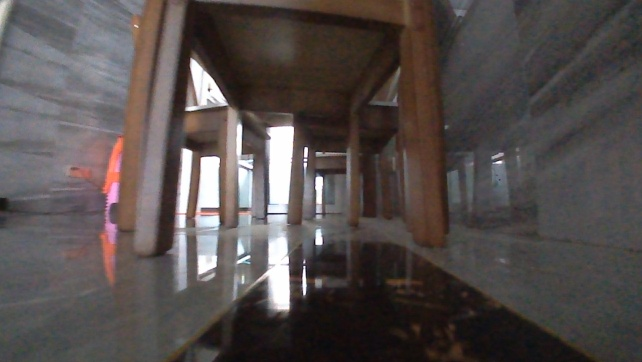dining_table1: (107, 0, 452, 258)
